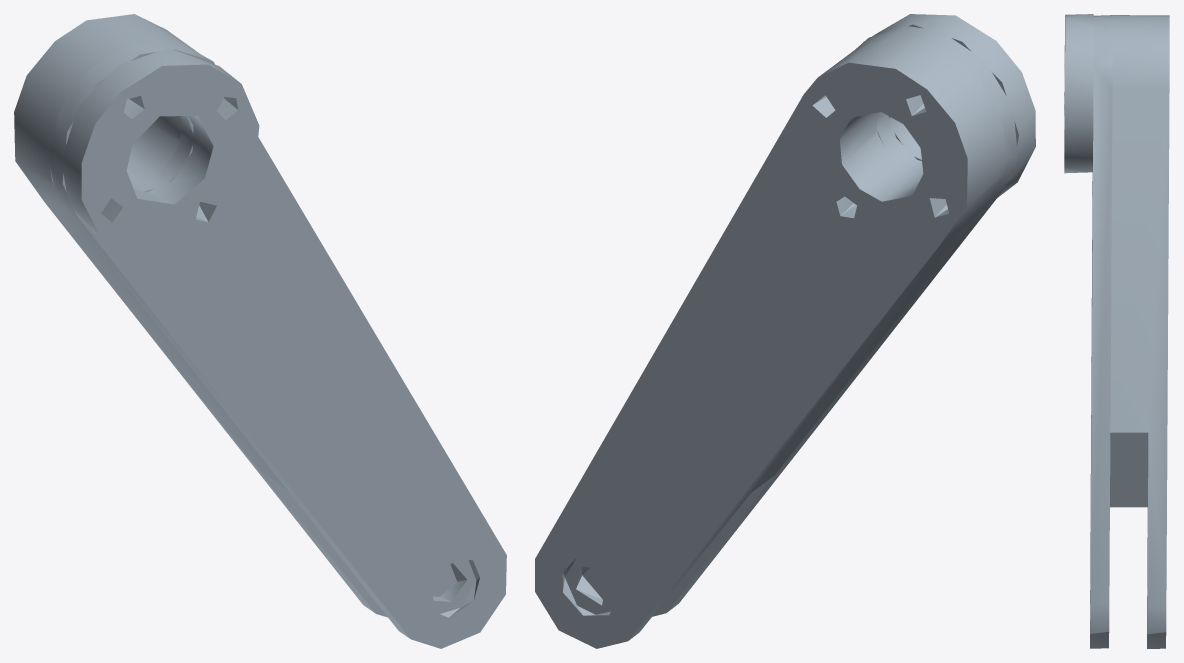
The picture shows the model from 3 angles, left to right: view 1: azimuth 30°, elevation 25°; view 2: azimuth 150°, elevation 25°; view 3: azimuth 270°, elevation 25°; orthographic projection. The views are drawn at different scales.
Parts seen in each view (by area): view 1: tmp_export_fr_link_1.010; view 2: tmp_export_fr_link_1.010; view 3: tmp_export_fr_link_1.010.
Part boxes in pixels (x1=…): tmp_export_fr_link_1.010: x1=14, y1=14, x2=506, y2=648; tmp_export_fr_link_1.010: x1=535, y1=14, x2=1035, y2=648; tmp_export_fr_link_1.010: x1=1064, y1=14, x2=1169, y2=648.
Size of the model in its own units: 0.062 by 0.0167 by 0.0891.
